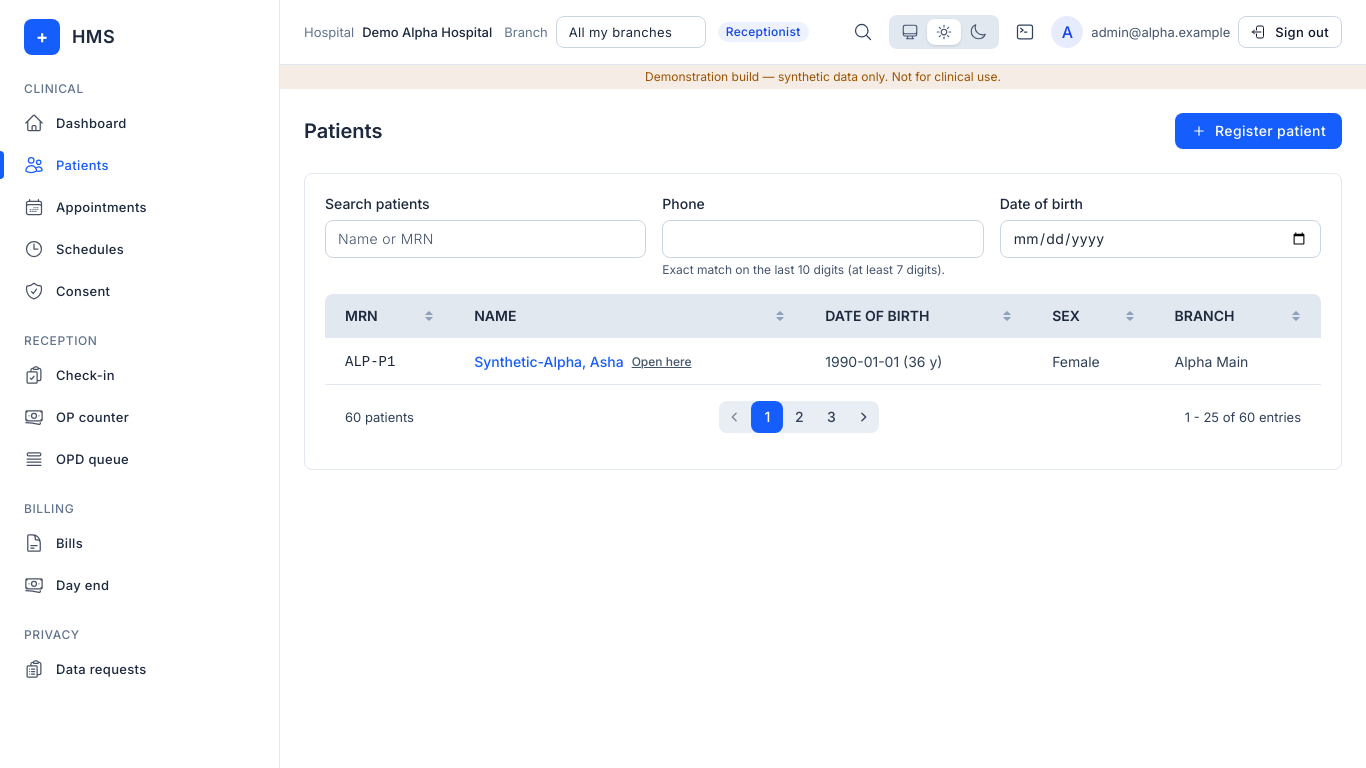
Test case: patient list paging (Tailux pagination, server-side) › requests the next page from the API and starts again at page 1 when the search changes
Expected: the row with test id "patient-row" shows "ALP-P1", x1=345 y1=354 x2=395 y2=370
Expected: the text "1 - 25 of 60 entries" is shown, x1=1185 y1=408 x2=1301 y2=426
Click the button named "Page 2".
click(799, 417)  # box x1=783 y1=401 x2=815 y2=433
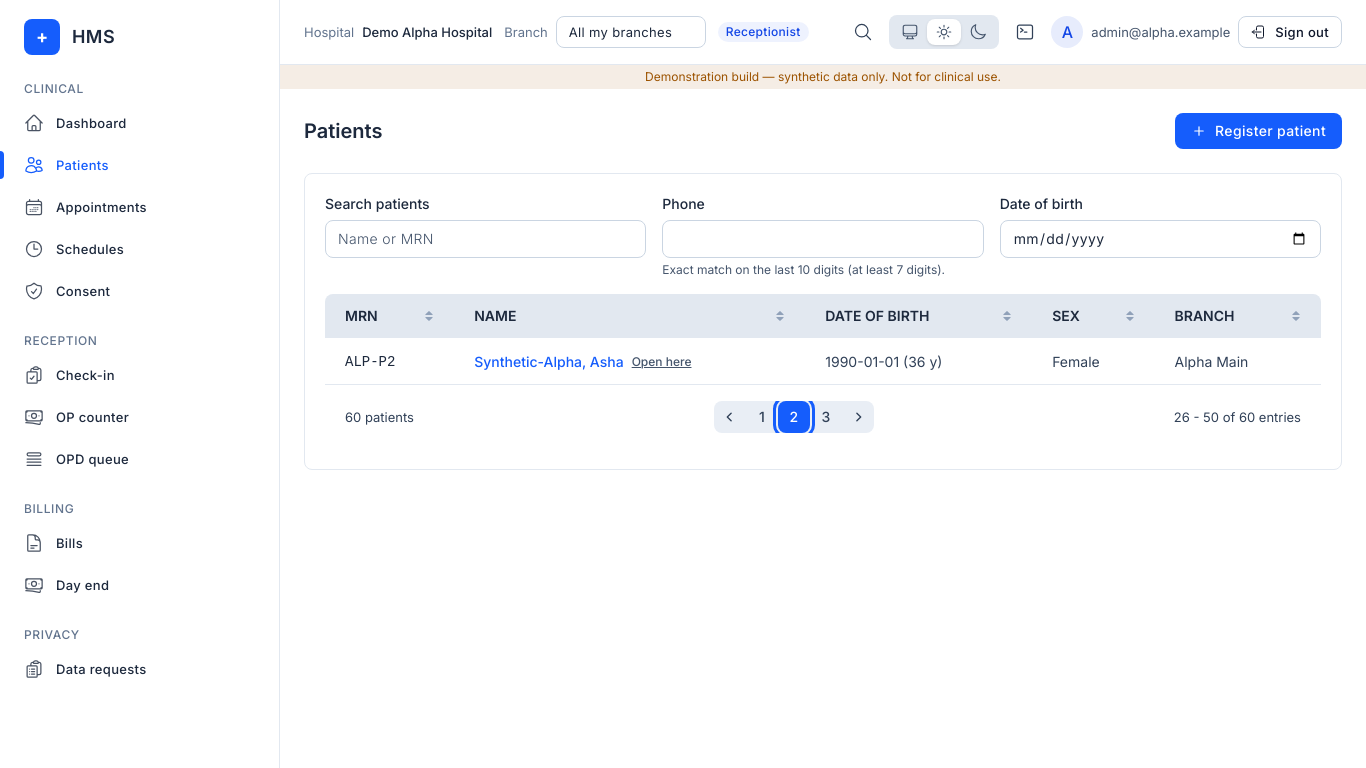
Result: the row with test id "patient-row" shows "ALP-P2" at x1=345 y1=354 x2=395 y2=370
Type "Synthetic" into the search field labelled "Search patients".
click(486, 239); type("Synthetic")  # box x1=325 y1=220 x2=646 y2=258
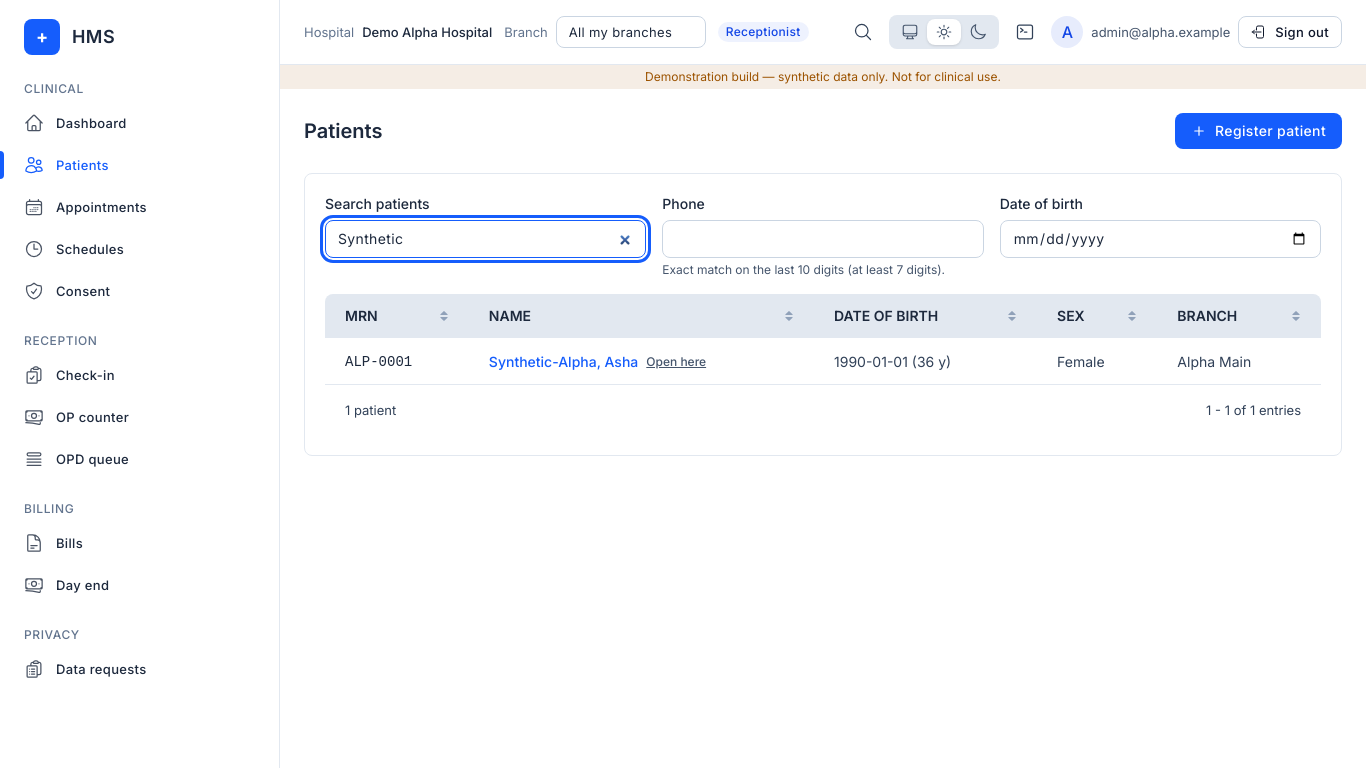
Result: the text with test id "patients-total" reads "1 patient" at x1=345 y1=402 x2=396 y2=418
Result: the navigation bar "Pagination" is gone
